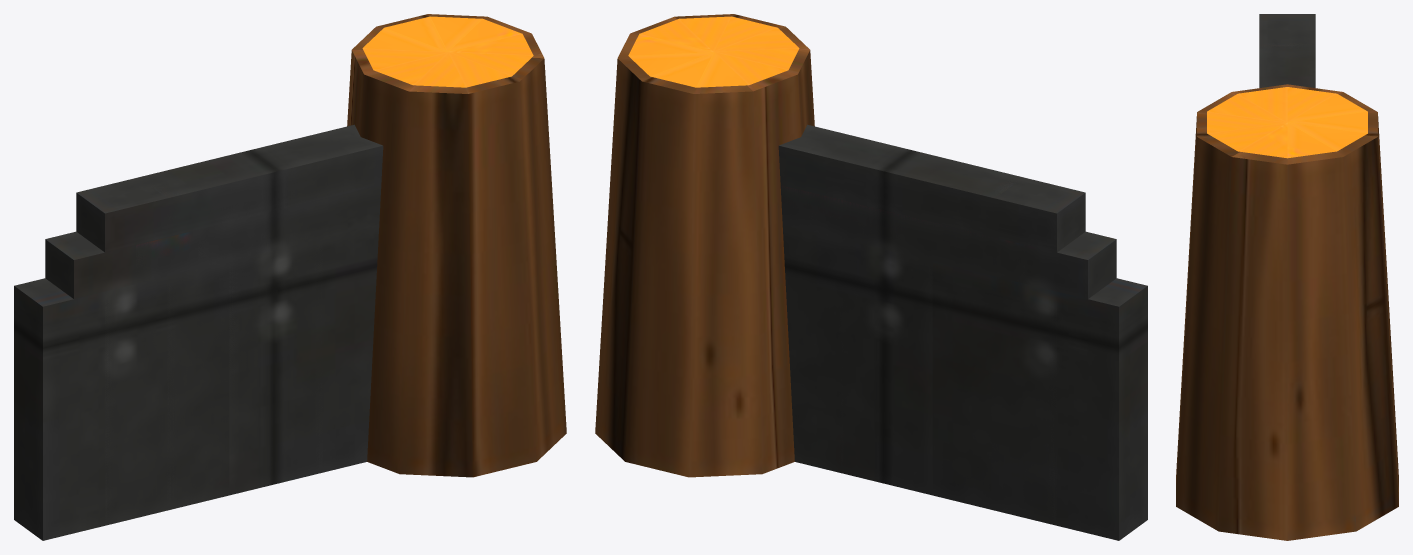
Rendered from iron_bar_stack.glb.
3 renders of one model, left to right at view 1: azimuth 30°, elevation 25°; view 2: azimuth 150°, elevation 25°; view 3: azimuth 270°, elevation 25°, orthographic.
Parts seen in each view (by area): view 1: props_0_0; view 2: props_0_0; view 3: props_0_0.
Boxes of the visible parts, bbox=[...] form: props_0_0: bbox=[14, 14, 566, 540]; props_0_0: bbox=[595, 14, 1147, 540]; props_0_0: bbox=[1176, 14, 1398, 540].
Size of the model in its own units: 1.68 by 1.16 by 0.6329.
2 materials, 2 textured.
